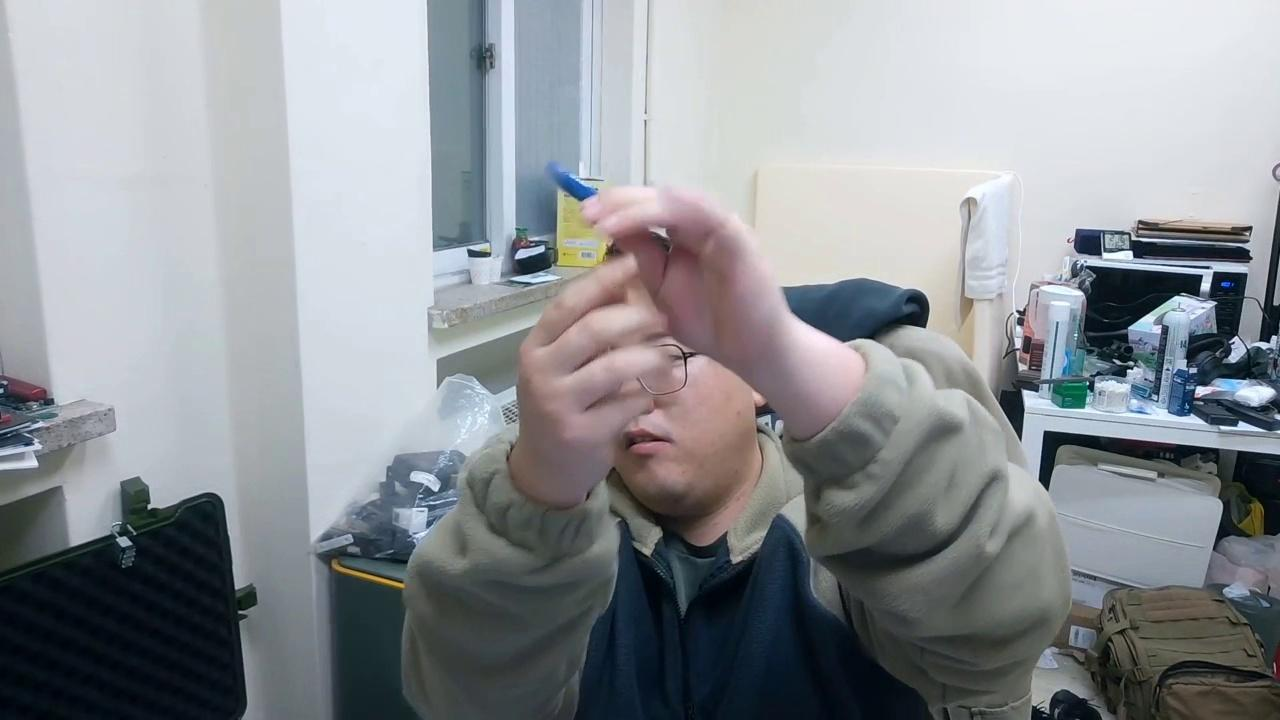blue_pliers: (545, 159, 674, 255)
